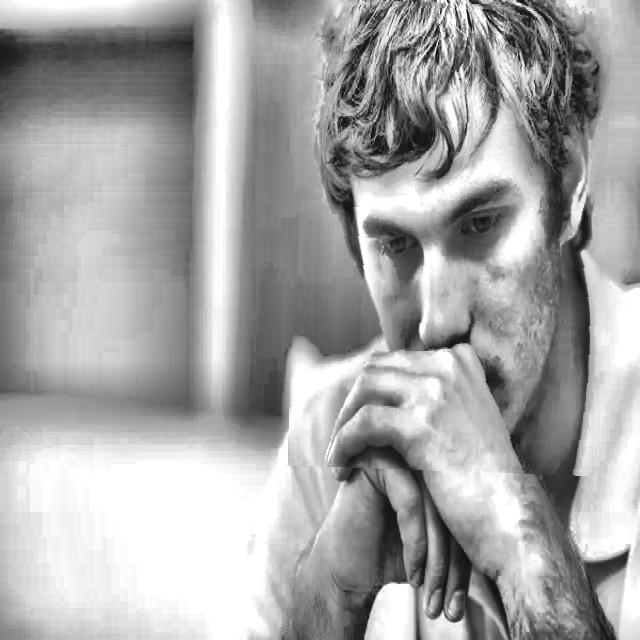sad: (291, 1, 608, 473)
